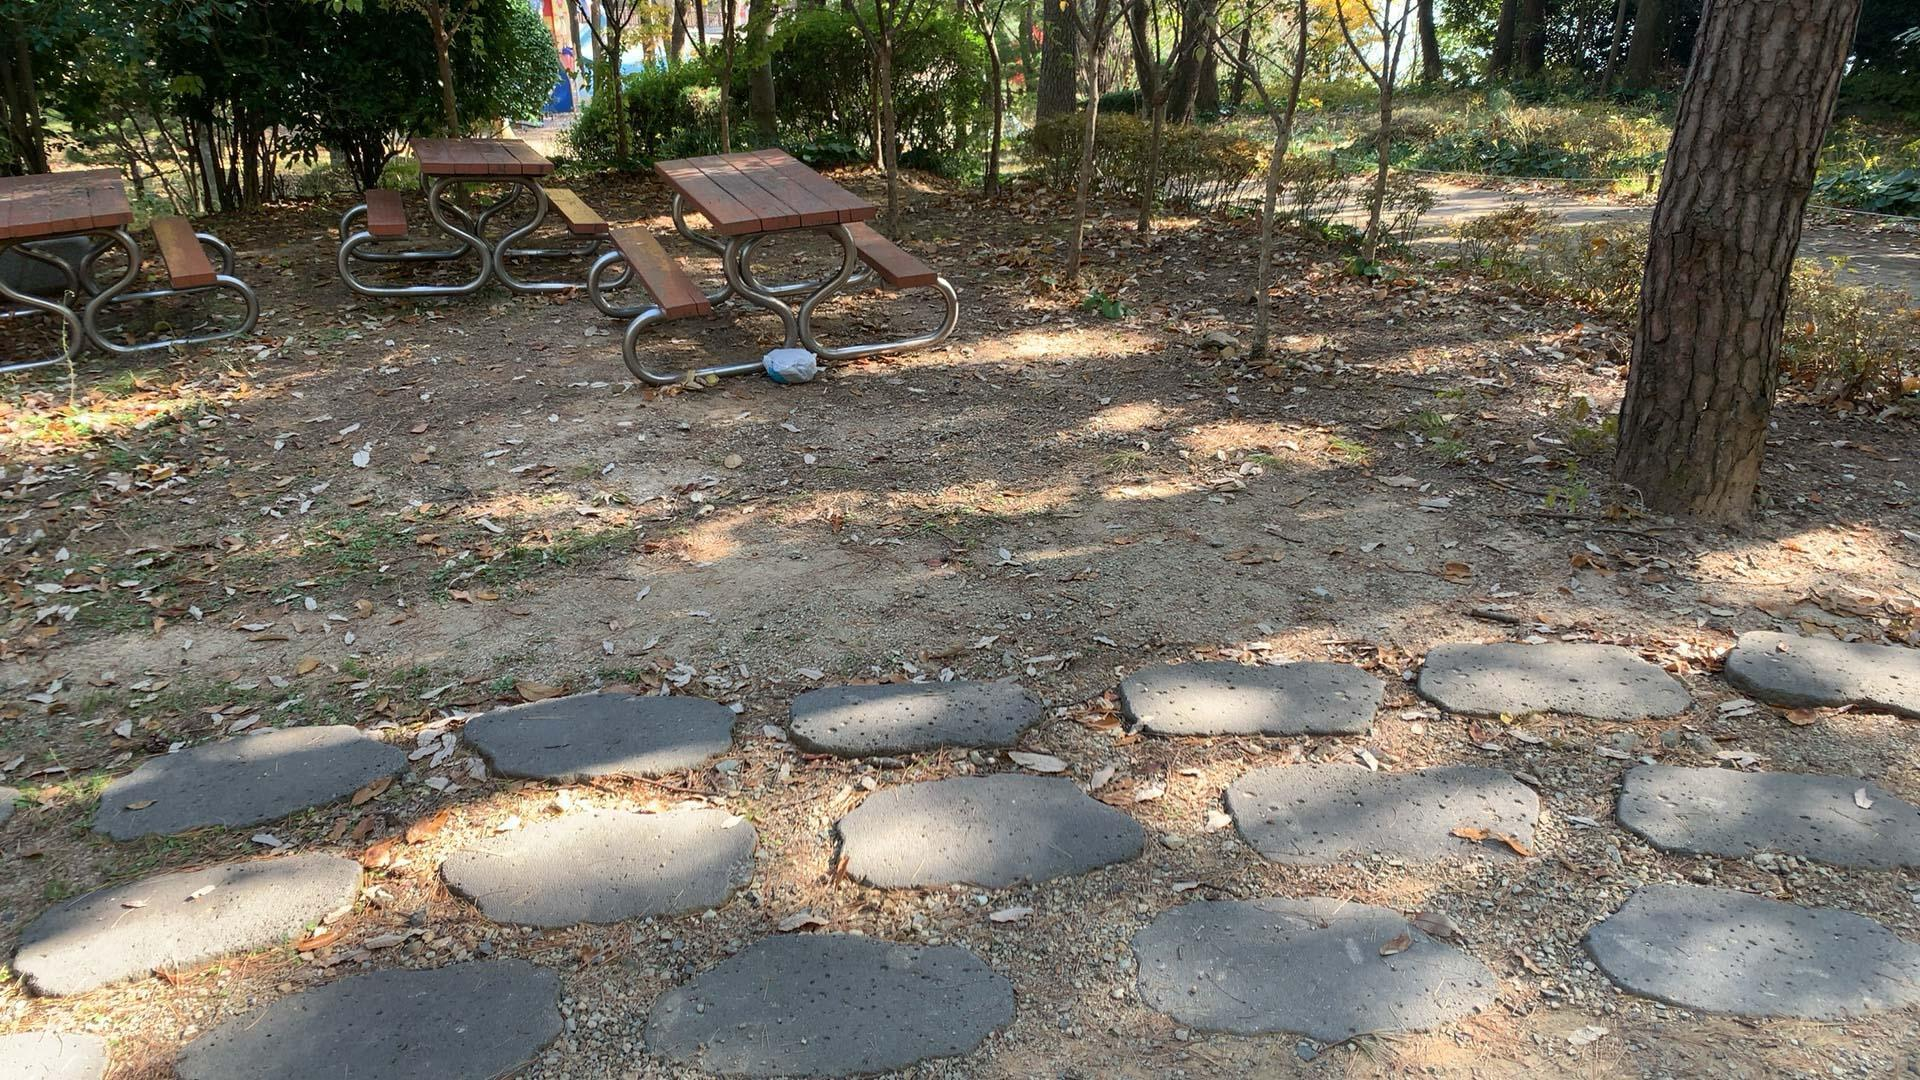white_bag: (761, 347, 818, 384)
